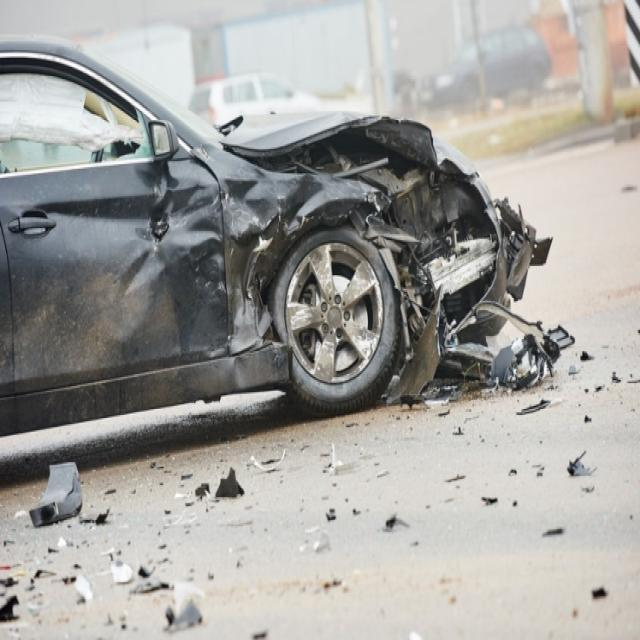crush: (113, 115, 573, 406)
